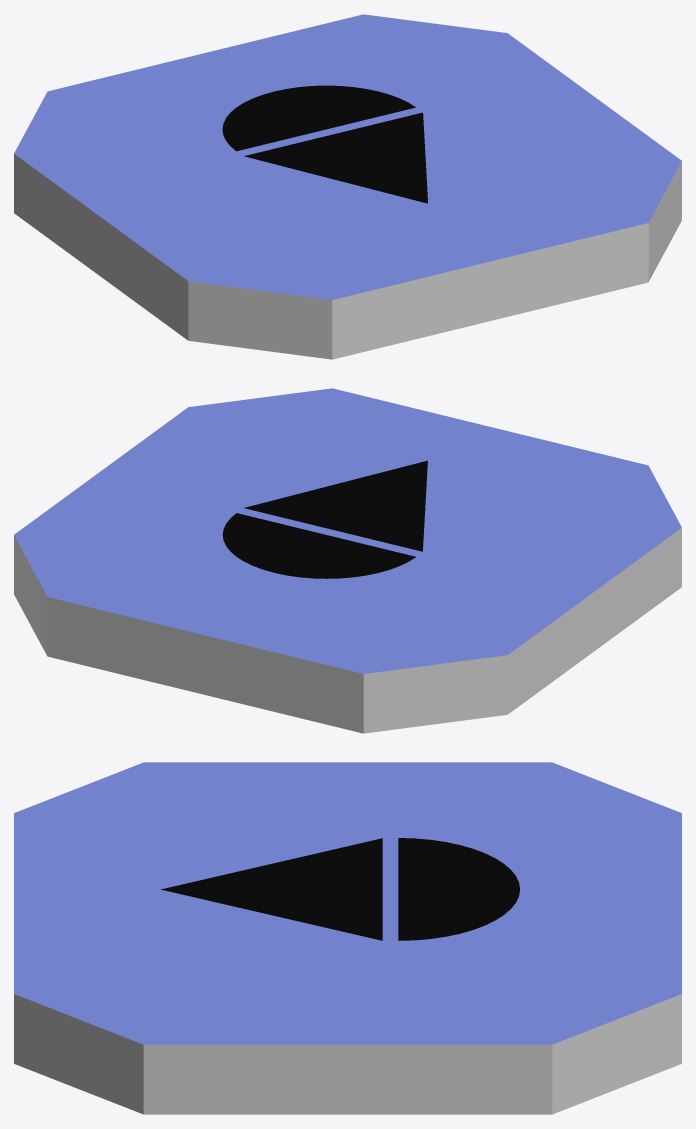
Rendered from prize.glb.
3 views of the same model, one above another, from view 1: azimuth 30°, elevation 25°; view 2: azimuth 150°, elevation 25°; view 3: azimuth 270°, elevation 25° (orthographic). The views are drawn at different scales.
Visible parts, largest first — view 1: prize; view 2: prize; view 3: prize.
Part boxes in pixels (x1,y1,x2,y2): prize: (14, 14, 681, 359); prize: (14, 388, 681, 733); prize: (14, 762, 681, 1114).
Size of the model in its own units: 4.29 by 0.5947 by 4.29.
